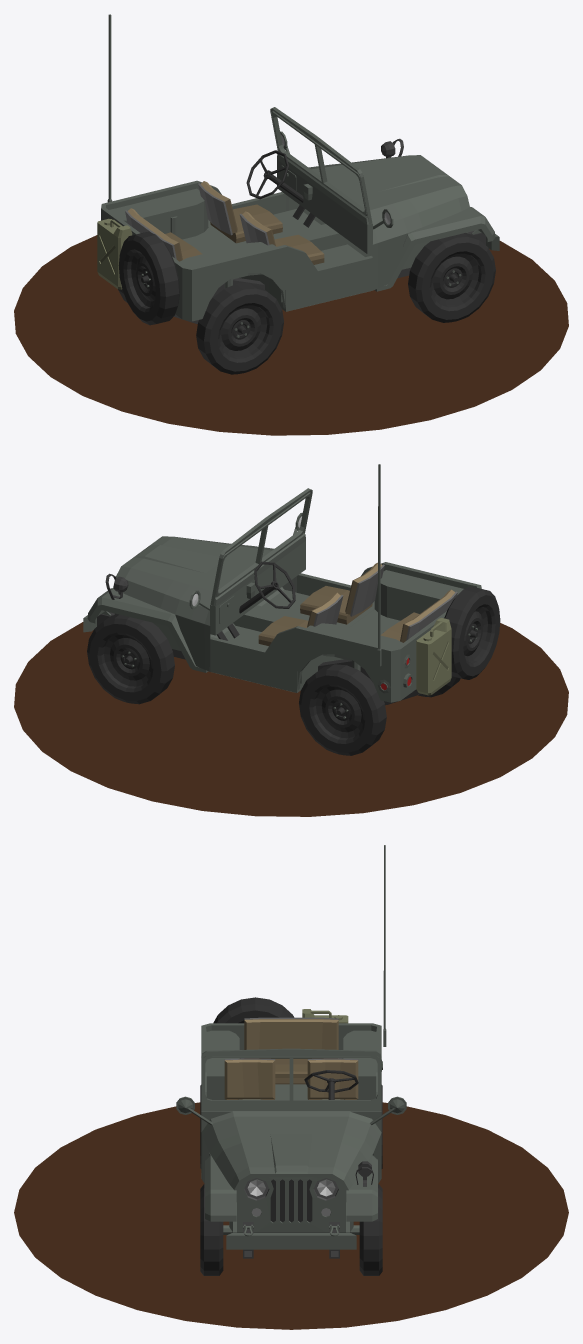
Rendered from willys_jeep_low_poly.glb.
3 views of the same model, one above another, from view 1: azimuth 30°, elevation 25°; view 2: azimuth 150°, elevation 25°; view 3: azimuth 270°, elevation 25° (orthographic).
Visible parts, largest first — view 1: ground, jeep; view 2: ground, jeep; view 3: ground, jeep.
Part boxes in pixels (box(x1,y1,x2,y2)): ground: box(14, 235, 568, 435); jeep: box(97, 14, 499, 374); ground: box(14, 622, 568, 816); jeep: box(83, 464, 500, 755); ground: box(14, 1102, 568, 1329); jeep: box(176, 845, 406, 1275).
Size of the model in its own units: 1199 by 721 by 1199.
2 materials, 1 textured.
